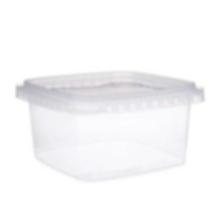plastic_box: (10, 64, 212, 186)
